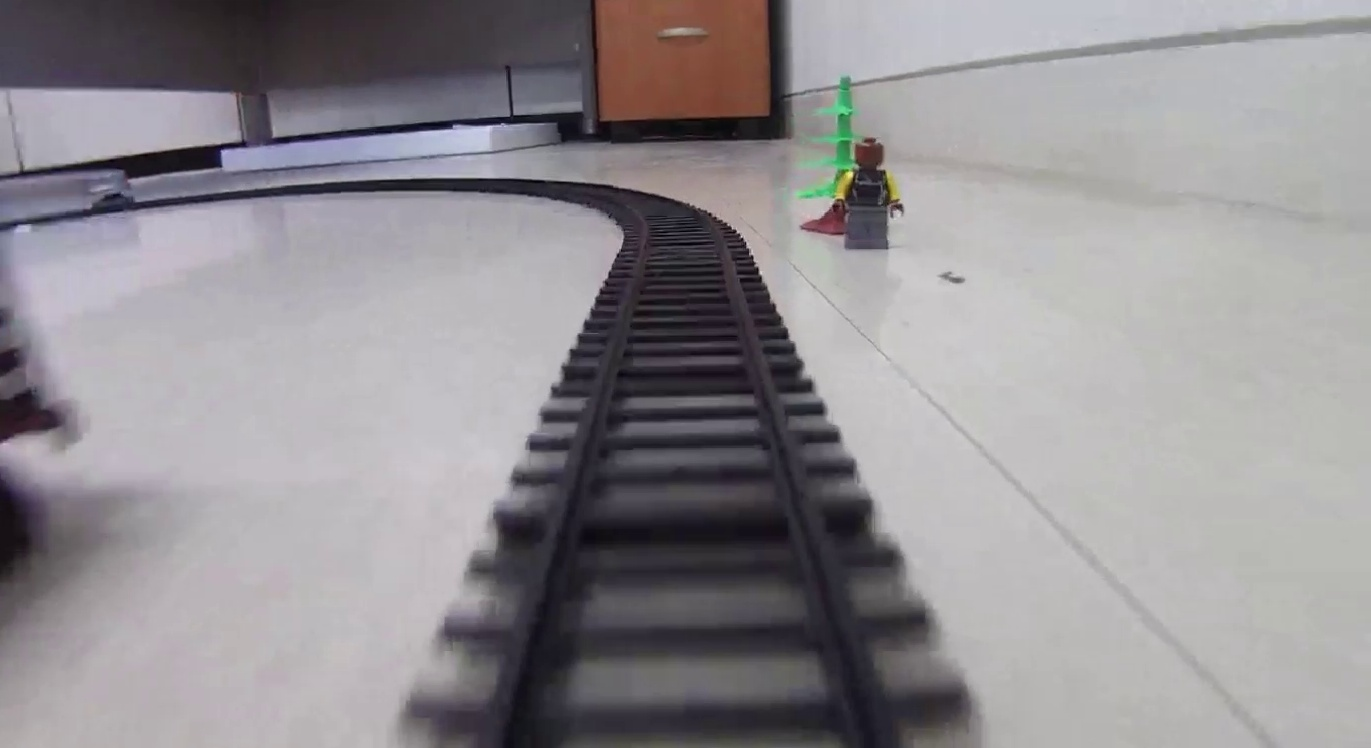people: (838, 136, 905, 248)
